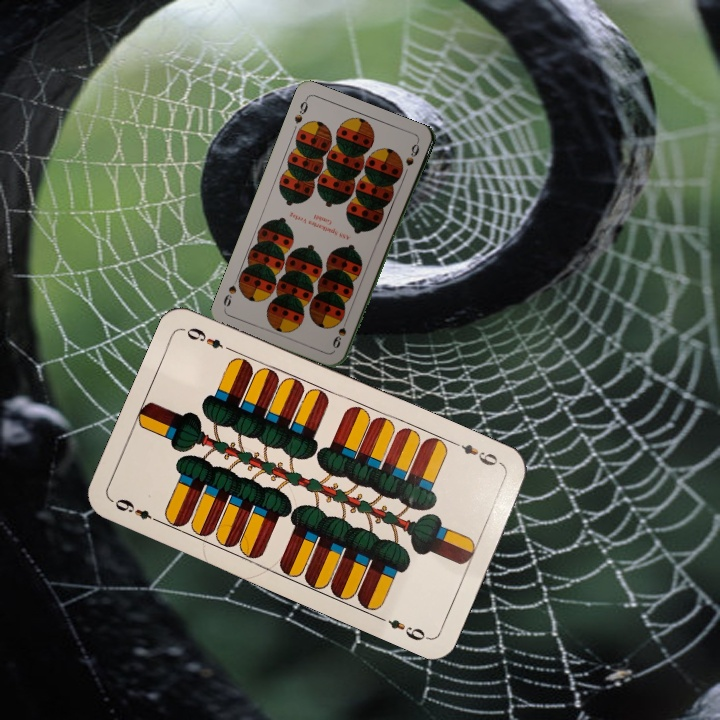E9: (450, 438, 506, 469), (111, 494, 164, 526)
S9: (329, 313, 351, 351), (290, 95, 311, 126)
